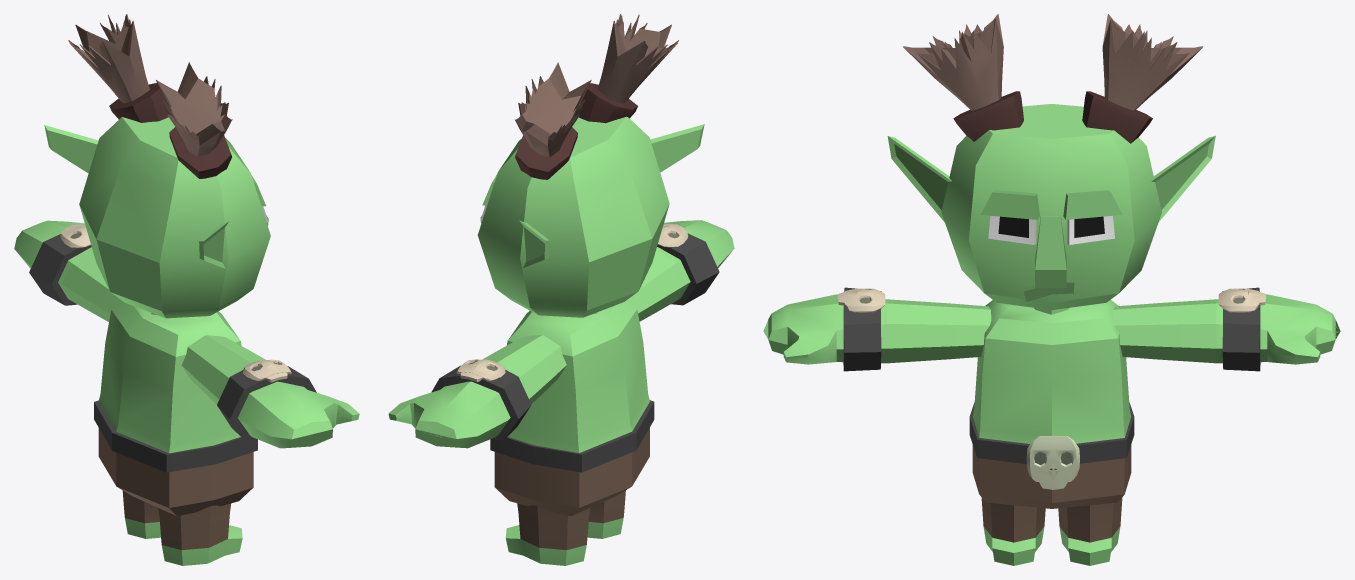
File: Goblin2.fbx
3 renders of one model, left to right at view 1: azimuth 30°, elevation 25°; view 2: azimuth 150°, elevation 25°; view 3: azimuth 270°, elevation 25°, orthographic. The views are drawn at different scales.
Parts seen in each view (by area): view 1: Plane.020; view 2: Plane.020; view 3: Plane.020.
Boxes of the visible parts, box(x1,y1,x2,y2) form: Plane.020: box(14, 14, 359, 565); Plane.020: box(388, 14, 734, 565); Plane.020: box(763, 14, 1340, 565).
Bounding box in the file's own units: 384 × 1121 × 1133.
